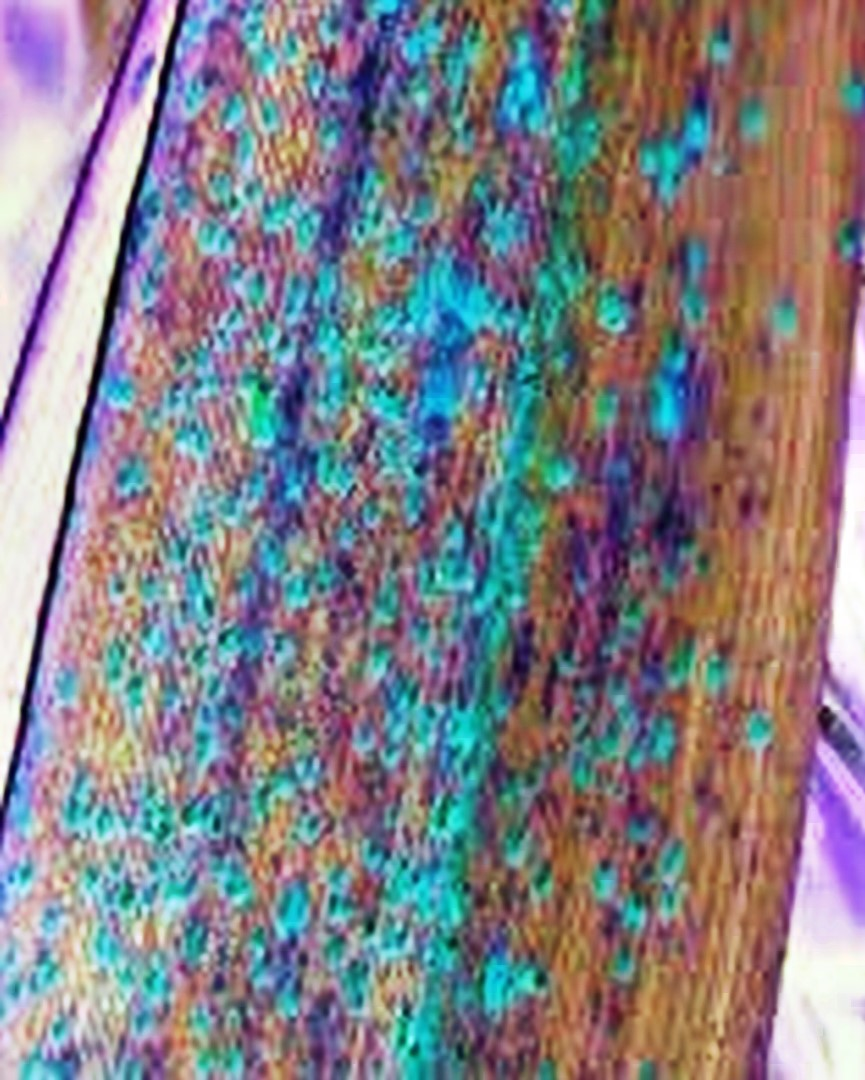Leaf Rust: (55, 58, 790, 1042)
